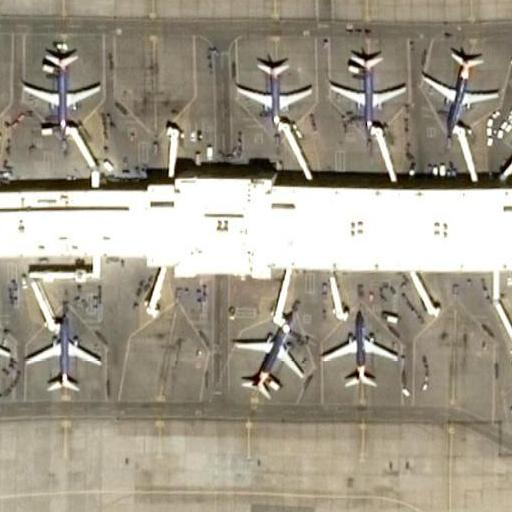Aircraft: (18, 40, 112, 134), (227, 47, 321, 137), (422, 44, 503, 136), (317, 308, 402, 395), (325, 47, 411, 131), (24, 305, 99, 394), (230, 310, 305, 394), (0, 302, 11, 393), (502, 355, 512, 445)
